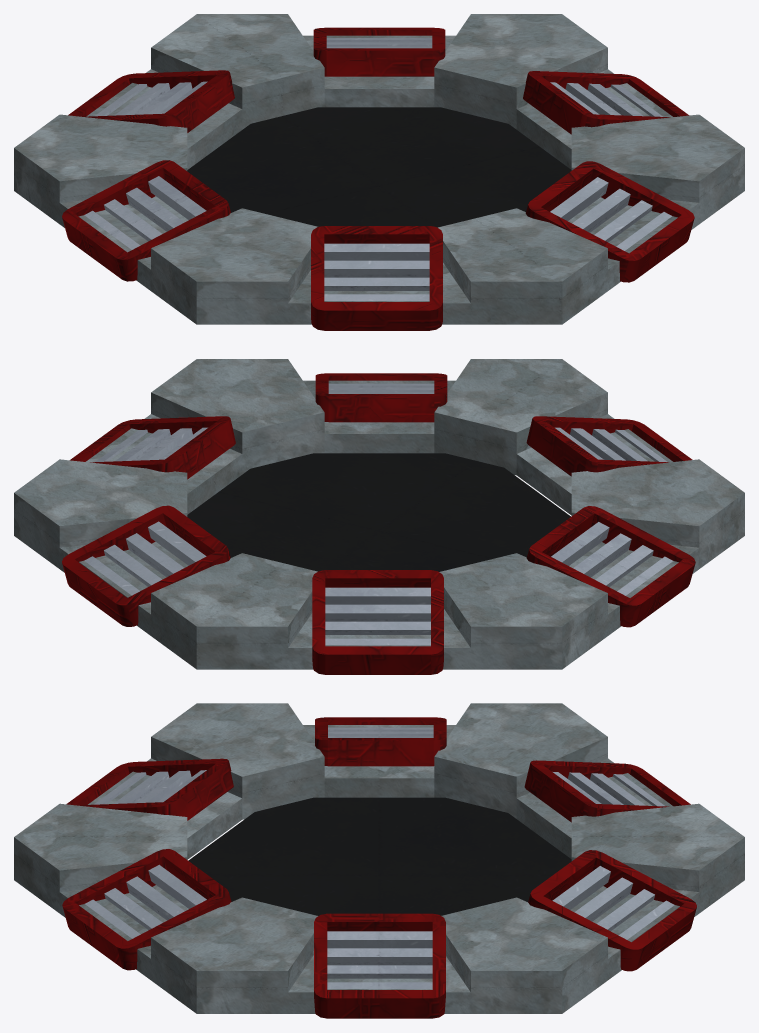
The model's file is TurretBase.fbx.
The picture shows the model from 3 angles, top to bottom: view 1: azimuth 30°, elevation 25°; view 2: azimuth 150°, elevation 25°; view 3: azimuth 270°, elevation 25°; orthographic projection.
Parts seen in each view (by area): view 1: mergedBlocks; view 2: mergedBlocks; view 3: mergedBlocks.
Part boxes in pixels (x1=…): mergedBlocks: x1=14, y1=14, x2=744, y2=330; mergedBlocks: x1=14, y1=359, x2=744, y2=674; mergedBlocks: x1=14, y1=703, x2=744, y2=1018.
Size of the model in its own units: 6.3 by 0.565 by 6.93.
